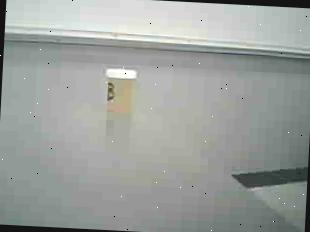Bottle B: (100, 65, 142, 117)
